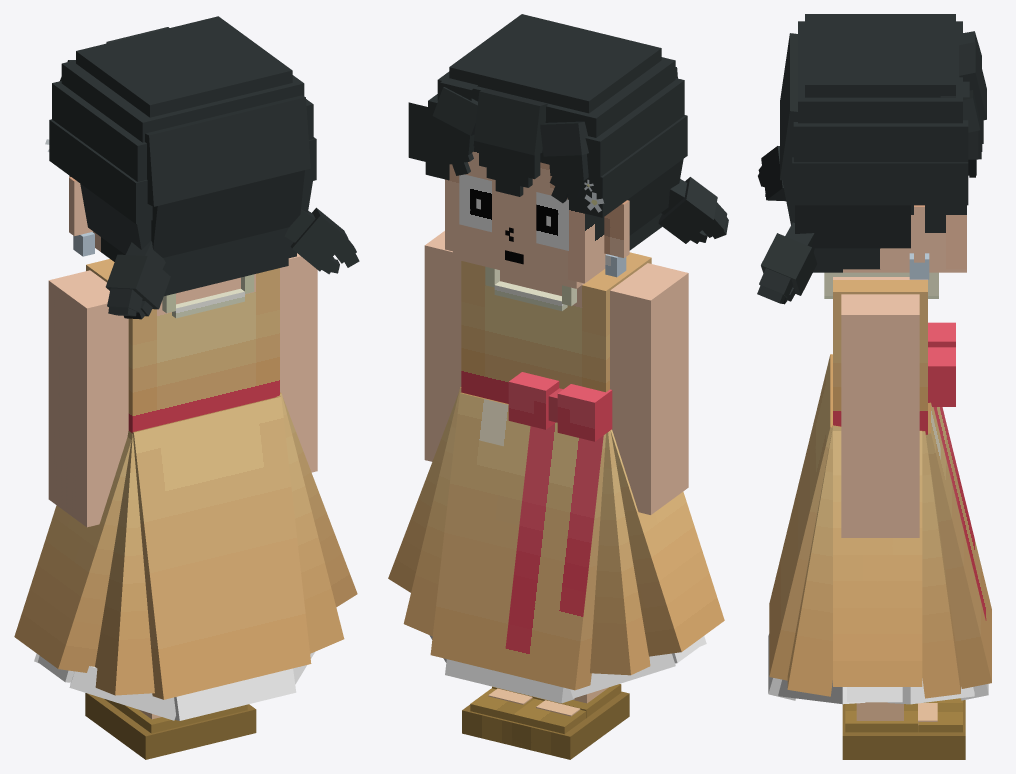
3 views of the same model, side by side, from view 1: azimuth 30°, elevation 25°; view 2: azimuth 150°, elevation 25°; view 3: azimuth 270°, elevation 25° (orthographic). The views are drawn at different scales.
Visible parts, largest first — view 1: head (×7), bone77, body, leftArm, bone82, bone19, bone81, bone17, bone29, rightArm, bone16, xiezi3 (×2) (+13 smaller); view 2: head (×10), bone76, leftArm, bone78, body, bone81, bone80, rightArm, xiezi3 (×2), bone72, bone39, bone5 (+19 smaller); view 3: head (×7), rightArm, bone75, bone78, bone16, bone72, xiezi4 (×2), bone59, bone82, body, bone19, bone77 (+20 smaller).
Part boxes in pixels (x1=…): head (×7): x1=49, y1=16, x2=304, y2=296; bone77: x1=136, y1=454, x2=237, y2=699; body: x1=86, y1=259, x2=279, y2=433; leftArm: x1=48, y1=270, x2=128, y2=527; bone82: x1=212, y1=437, x2=311, y2=681; bone19: x1=145, y1=95, x2=310, y2=206; bone81: x1=14, y1=476, x2=125, y2=672; bone17: x1=95, y1=471, x2=154, y2=695; bone29: x1=151, y1=170, x2=304, y2=257; rightArm: x1=280, y1=253, x2=317, y2=472; bone16: x1=286, y1=435, x2=344, y2=653; xiezi3 (×2): x1=85, y1=693, x2=204, y2=759; head (×10): x1=408, y1=14, x2=687, y2=288; bone76: x1=503, y1=452, x2=603, y2=690; leftArm: x1=610, y1=263, x2=688, y2=514; bone78: x1=430, y1=434, x2=527, y2=672; body: x1=461, y1=252, x2=651, y2=403; bone81: x1=616, y1=462, x2=724, y2=656; bone80: x1=590, y1=466, x2=650, y2=675; rightArm: x1=424, y1=231, x2=461, y2=461; xiezi3 (×2): x1=512, y1=684, x2=629, y2=759; bone72: x1=403, y1=426, x2=455, y2=636; bone39: x1=474, y1=89, x2=547, y2=155; bone5: x1=455, y1=392, x2=530, y2=451; head (×7): x1=792, y1=14, x2=968, y2=272; rightArm: x1=841, y1=294, x2=919, y2=537; bone75: x1=833, y1=475, x2=922, y2=686; bone78: x1=931, y1=437, x2=991, y2=688; bone16: x1=787, y1=470, x2=832, y2=696; bone72: x1=922, y1=472, x2=960, y2=698; xiezi4 (×2): x1=842, y1=703, x2=965, y2=759; bone59: x1=795, y1=205, x2=910, y2=248; bone82: x1=769, y1=431, x2=825, y2=680; body: x1=833, y1=277, x2=927, y2=434; bone19: x1=780, y1=33, x2=797, y2=181; bone77: x1=769, y1=395, x2=820, y2=639.
Bounding box in the file's own units: 0.7875 × 1.69 × 0.5477.
Materials: 1 (1 with a texture image).
